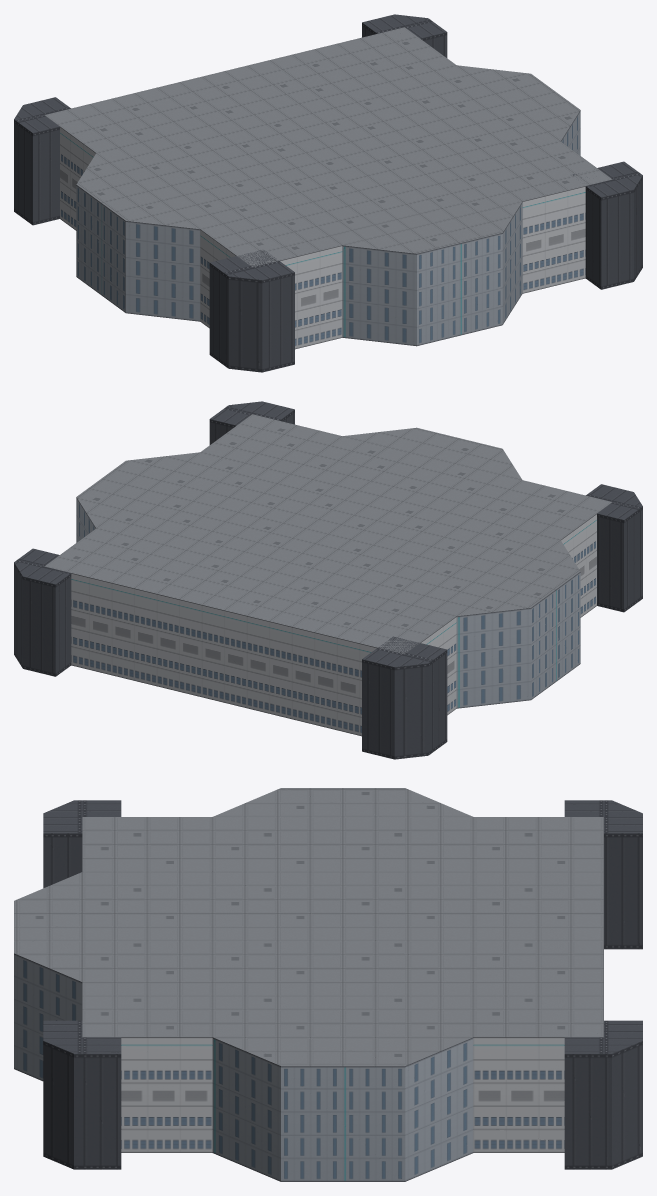
Rendered from BLD_FLR_W_FlatSide.fbx.
3 views of the same model, one above another, from view 1: azimuth 30°, elevation 25°; view 2: azimuth 150°, elevation 25°; view 3: azimuth 270°, elevation 25° (orthographic). The views are drawn at different scales.
Parts seen in each view (by area): view 1: BLD_FLR_W_FlatSide; view 2: BLD_FLR_W_FlatSide; view 3: BLD_FLR_W_FlatSide.
Part boxes in pixels (x1=…): BLD_FLR_W_FlatSide: x1=14, y1=14, x2=642, y2=372; BLD_FLR_W_FlatSide: x1=14, y1=401, x2=642, y2=759; BLD_FLR_W_FlatSide: x1=14, y1=788, x2=642, y2=1181.
Bounding box in the file's own units: 126 × 24.5 × 121.
